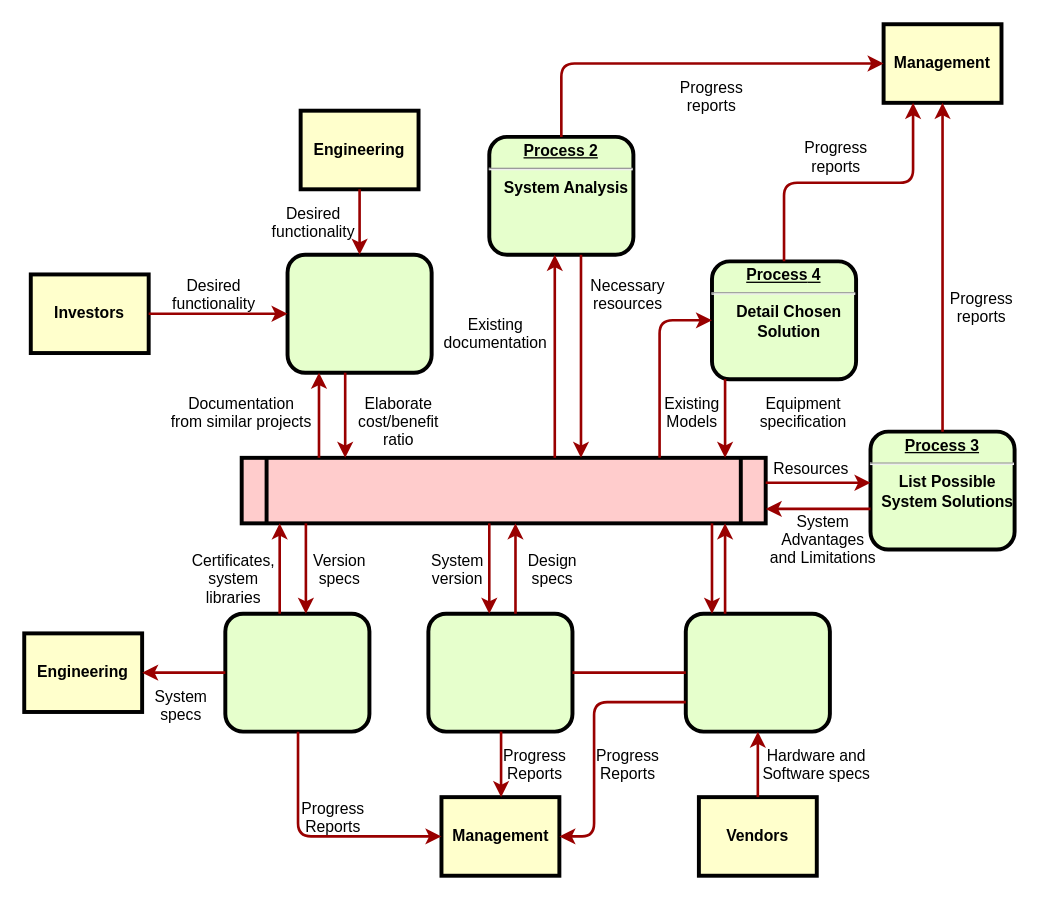
This 1039x900 diagram has some shape labels left out. The box of each missing label's shape, as (x1, y1, x2, y2) in pixels:
FRM (Franchise Resource Management): (239, 455, 767, 525)
Process 1 System Study Preparation: (285, 252, 433, 374)
Process 5 New System Design: (683, 611, 831, 733)
Process 6 New System Construction: (223, 611, 371, 733)
Process 7 New System Startup and Testing: (426, 611, 574, 733)
